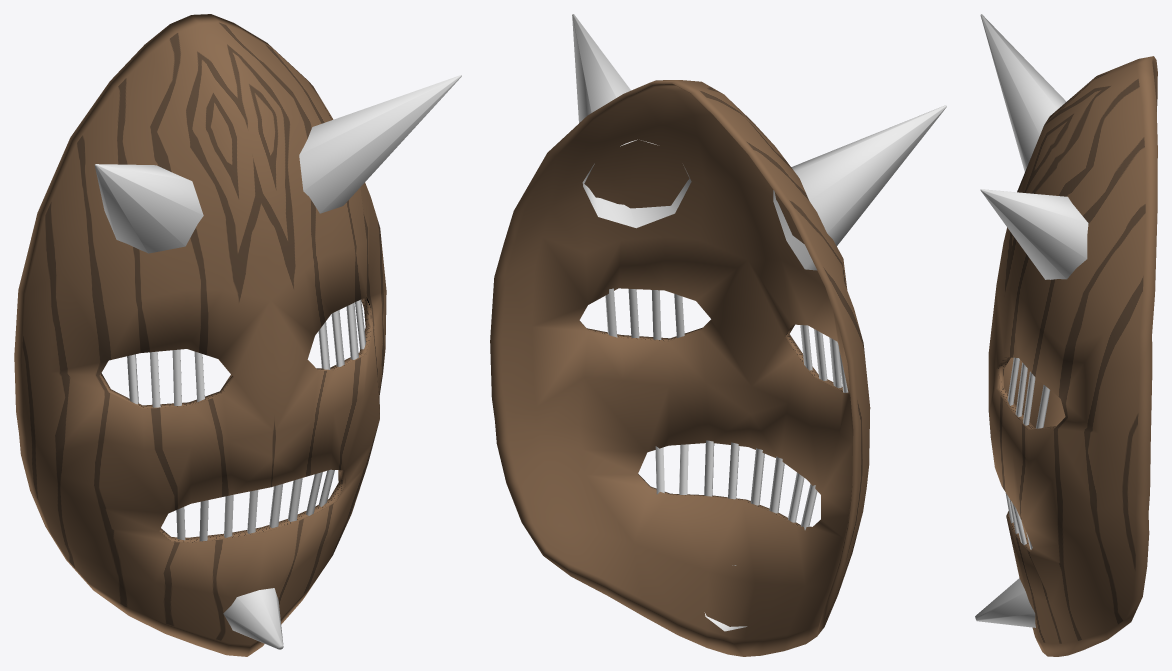
File: mask-2.fbx
The picture shows the model from 3 angles, left to right: view 1: azimuth 30°, elevation 25°; view 2: azimuth 150°, elevation 25°; view 3: azimuth 270°, elevation 25°; orthographic projection. The views are drawn at different scales.
Parts seen in each view (by area): view 1: Mask, Horn-2, Bars, Stud; view 2: Mask, Horn-2, Bars; view 3: Mask, Horn-2, Bars, Stud.
Boxes of the visible parts, x1,y1,x2,y2 form: Mask: [14, 14, 386, 656]; Horn-2: [94, 75, 461, 253]; Bars: [127, 299, 365, 541]; Stud: [223, 588, 283, 649]; Mask: [490, 80, 870, 656]; Horn-2: [572, 14, 946, 270]; Bars: [605, 288, 848, 530]; Mask: [988, 56, 1157, 656]; Horn-2: [980, 14, 1088, 279]; Bars: [1005, 357, 1050, 549]; Stud: [975, 578, 1035, 627].
Size of the model in its own units: 43.83 by 68.59 by 19.24.
